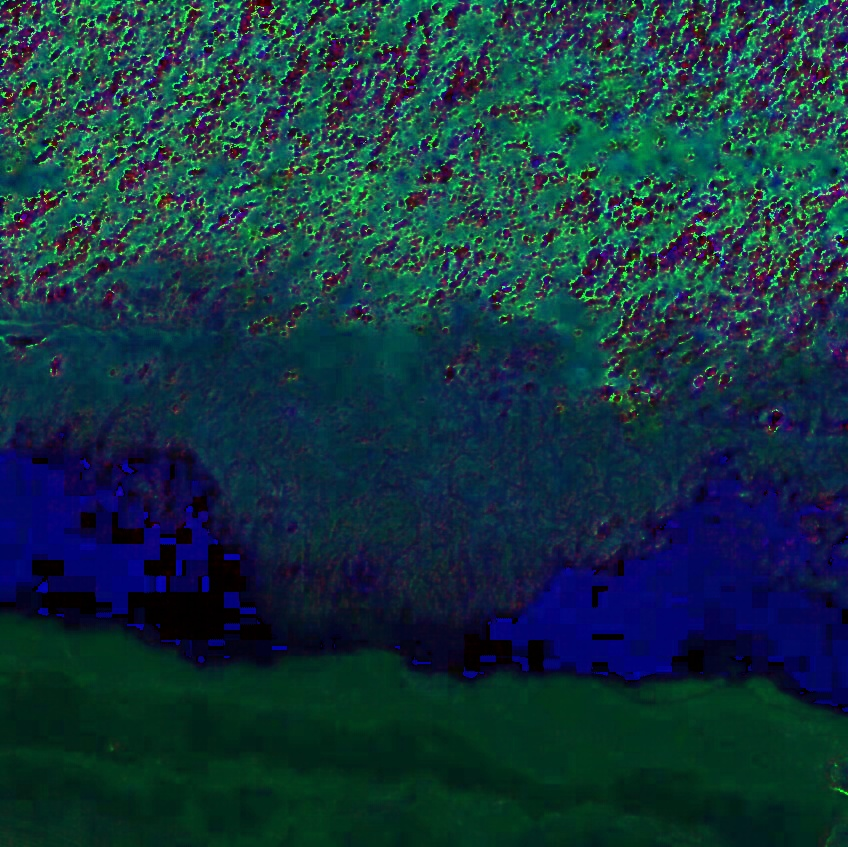rip_current: (268, 194, 537, 612)
